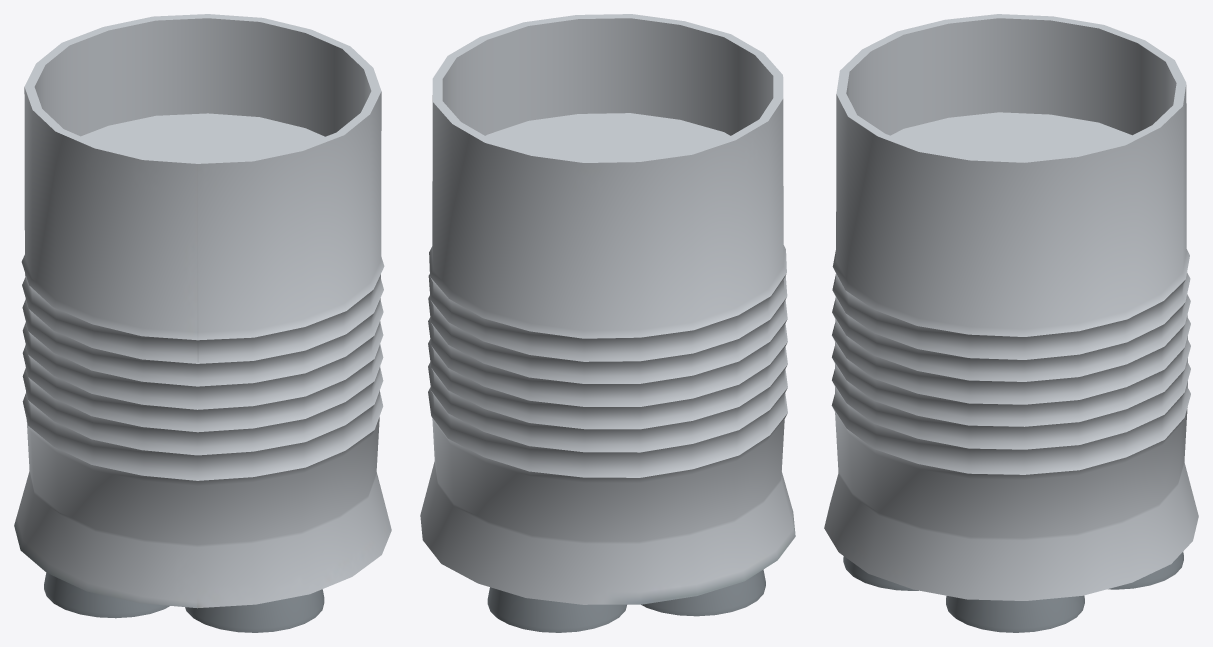
File: TuiJinCang.FBX
3 renders of one model, left to right at view 1: azimuth 30°, elevation 25°; view 2: azimuth 150°, elevation 25°; view 3: azimuth 270°, elevation 25°, orthographic.
Parts seen in each view (by area): view 1: TuiJinCang; view 2: TuiJinCang; view 3: TuiJinCang.
Boxes of the visible parts, x1,y1,x2,y2 form: TuiJinCang: (14, 14, 391, 632); TuiJinCang: (420, 14, 795, 632); TuiJinCang: (824, 14, 1198, 632).
Bounding box in the file's own units: 80.91 × 113 × 81.38.
